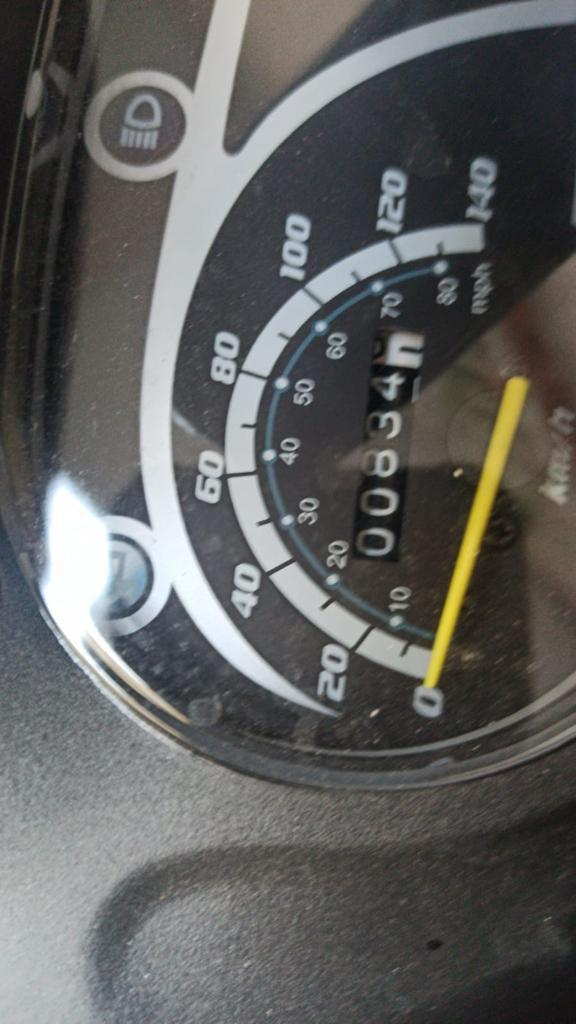0: (352, 526, 399, 558), (356, 487, 405, 517)
1: (393, 337, 430, 359)
3: (360, 407, 407, 439)
4: (364, 371, 410, 401)
8: (355, 442, 409, 477)
odometer: (344, 325, 434, 567)
